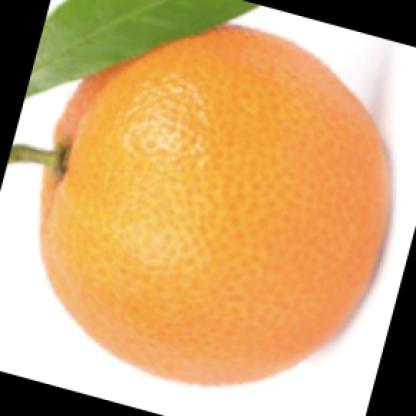fresh: (33, 20, 394, 390)
